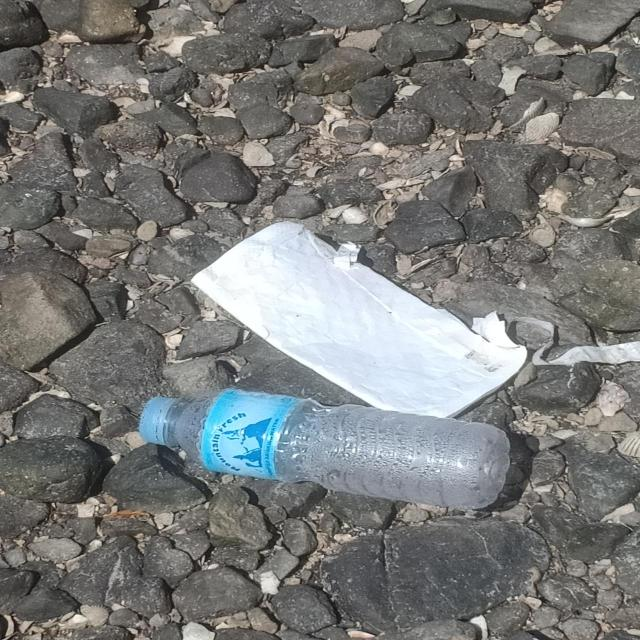plastic_waste: (195, 222, 533, 418), (137, 390, 512, 512)
